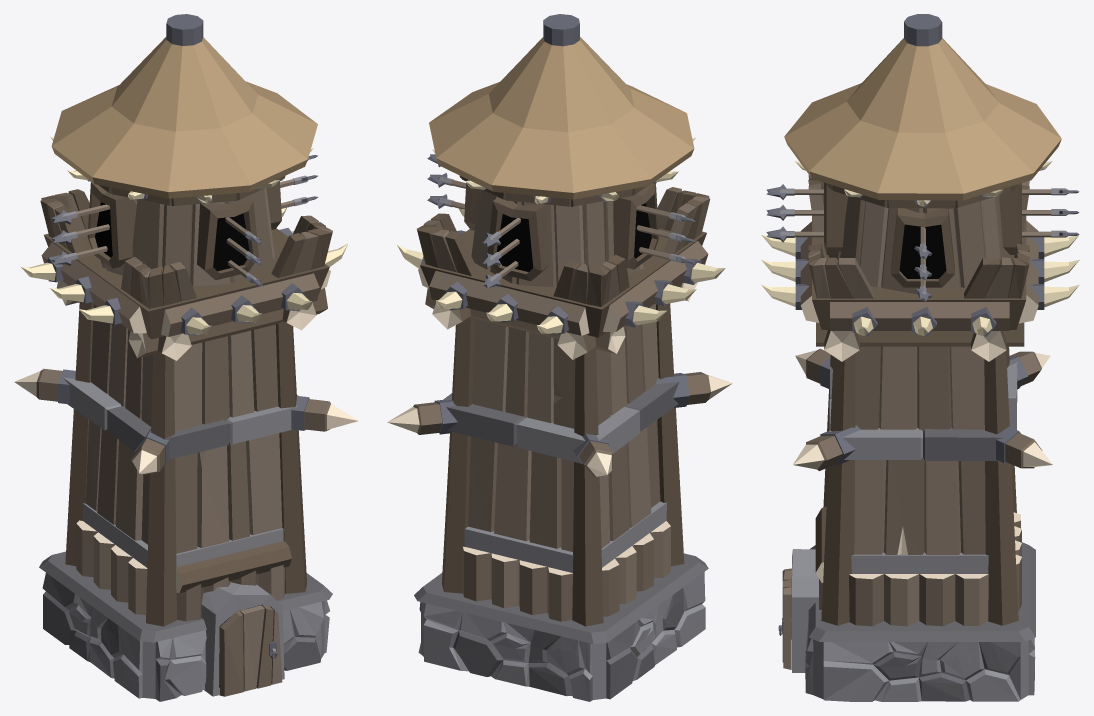
File: _arches_tower_LVL_3.fbx
The picture shows the model from 3 angles, left to right: view 1: azimuth 30°, elevation 25°; view 2: azimuth 150°, elevation 25°; view 3: azimuth 270°, elevation 25°; orthographic projection. The views are drawn at different scales.
Visible parts, largest first — view 1: archers_tower_LVL_3; view 2: archers_tower_LVL_3; view 3: archers_tower_LVL_3.
Boxes of the visible parts, x1=… form: archers_tower_LVL_3: x1=14, y1=14, x2=358, y2=701; archers_tower_LVL_3: x1=387, y1=14, x2=732, y2=701; archers_tower_LVL_3: x1=761, y1=14, x2=1079, y2=701.
Bounding box in the file's own units: 798 × 1749 × 798.
